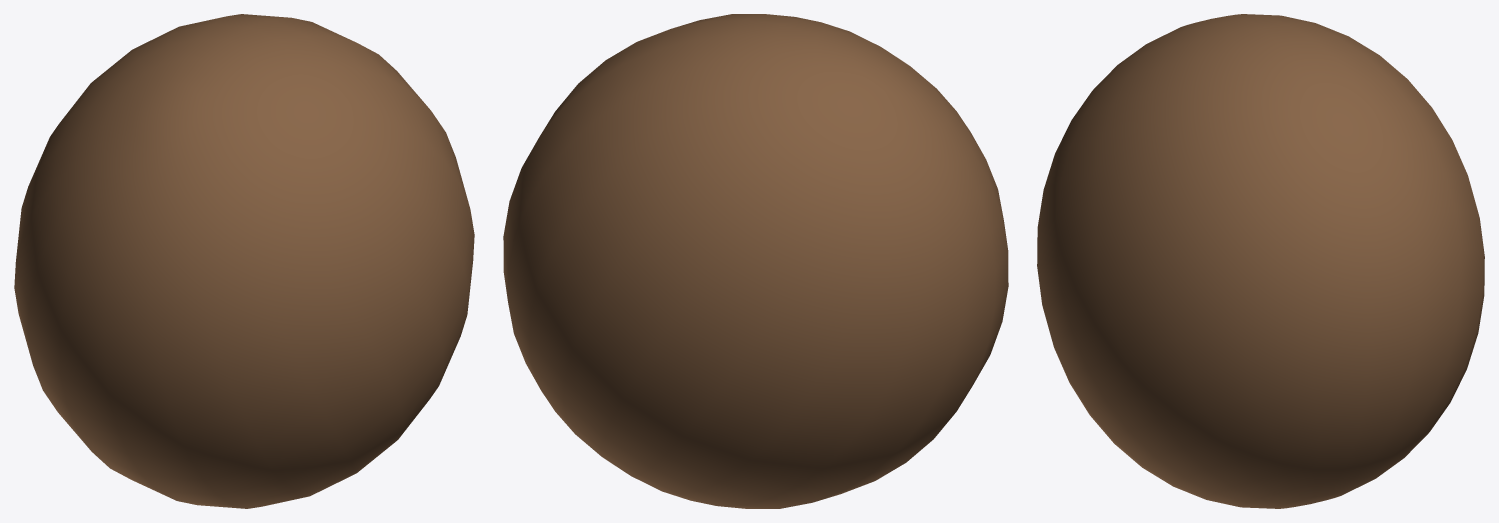
The model's file is Left Wing joint.fbx.
3 views of the same model, side by side, from view 1: azimuth 30°, elevation 25°; view 2: azimuth 150°, elevation 25°; view 3: azimuth 270°, elevation 25° (orthographic). The views are drawn at different scales.
Visible parts, largest first — view 1: polySurface64; view 2: polySurface64; view 3: polySurface64.
Part boxes in pixels (bbox=[...]): polySurface64: bbox=[14, 14, 474, 508]; polySurface64: bbox=[503, 14, 1008, 508]; polySurface64: bbox=[1037, 14, 1484, 508].
Bounding box in the file's own units: 0.198 × 0.2034 × 0.1839.
